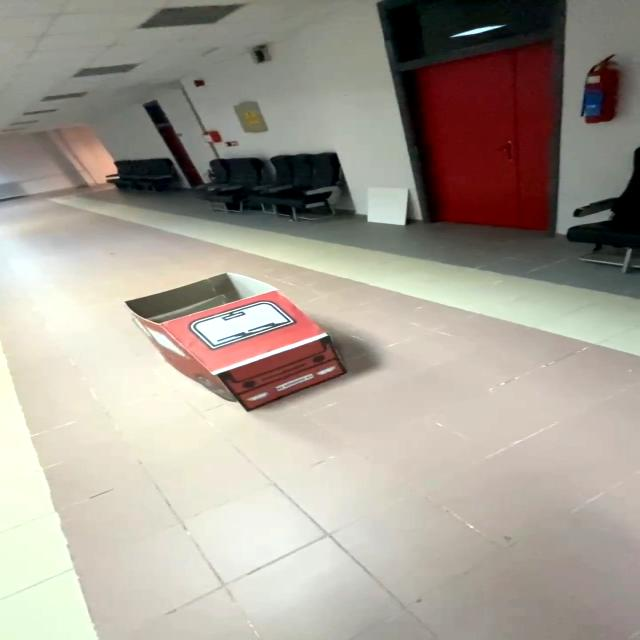red_car: (105, 262, 391, 431)
